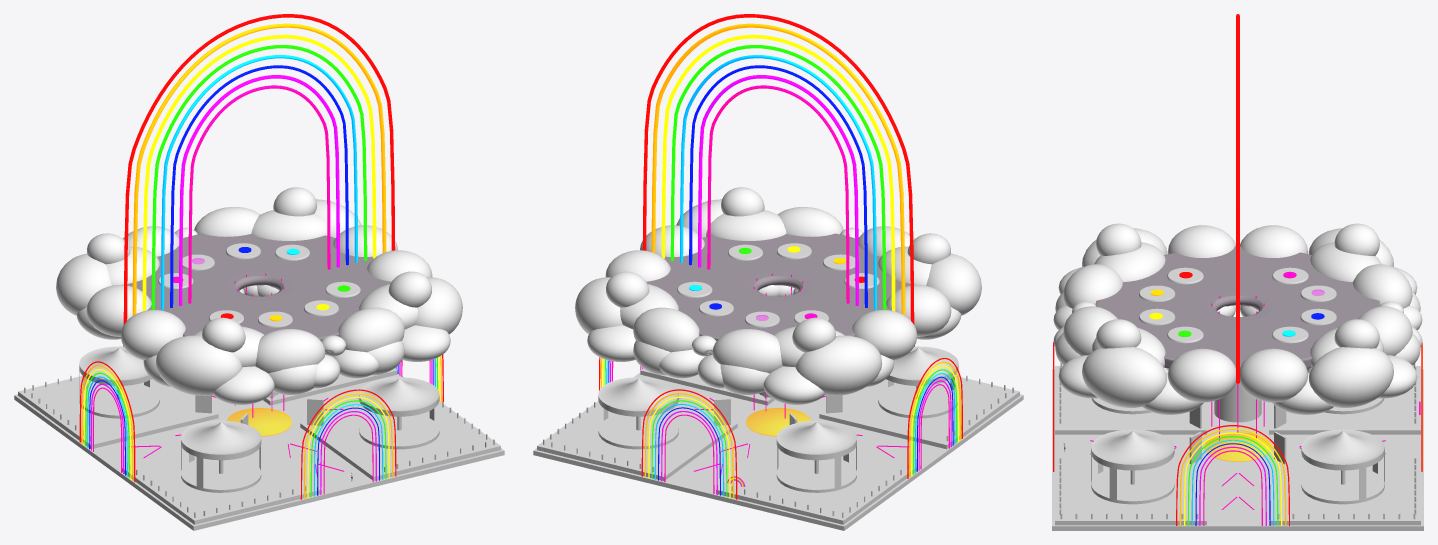
Rendered from rainbow-2.glb.
3 views of the same model, side by side, from view 1: azimuth 30°, elevation 25°; view 2: azimuth 150°, elevation 25°; view 3: azimuth 270°, elevation 25° (orthographic). The views are drawn at different scales.
Visible parts, largest first — view 1: Sphere.013, Plane.007, Cylinder, Circle.009, Cylinder.001, BezierCircle.004, BezierCircle.002, BezierCircle.005, BezierCircle.006, BezierCircle.003, BezierCircle.008, BezierCircle.007 (+3 smaller); view 2: Sphere.013, Plane.007, Cylinder, Circle.009, Cylinder.001, BezierCircle.004, BezierCircle.002, BezierCircle.005, BezierCircle.006, BezierCircle.003, BezierCircle.008, BezierCircle.007 (+3 smaller); view 3: Sphere.013, Plane.007, Cylinder, Circle.009, Cylinder.001, BezierCircle.002, Circle.001, Circle.045, Cube.084, Circle.041, Cylinder.002, BezierCircle.038 (+2 smaller).
Boxes of the visible parts, box(x1,y1,x2,y2) form: Sphere.013: box(56, 187, 462, 404); Plane.007: box(14, 368, 504, 530); Cylinder: box(123, 233, 391, 340); Circle.009: box(79, 346, 439, 492); Cylinder.001: box(158, 243, 360, 327); BezierCircle.004: box(132, 23, 386, 315); BezierCircle.002: box(123, 14, 395, 324); BezierCircle.005: box(142, 34, 376, 311); BezierCircle.006: box(151, 45, 367, 309); BezierCircle.003: box(161, 55, 357, 310); BezierCircle.008: box(179, 75, 339, 305); BezierCircle.007: box(170, 65, 348, 307); Sphere.013: box(575, 187, 981, 404); Plane.007: box(533, 368, 1023, 530); Cylinder: box(646, 233, 914, 340); Circle.009: box(598, 346, 958, 492); Cylinder.001: box(677, 243, 879, 327); BezierCircle.004: box(651, 23, 905, 315); BezierCircle.002: box(642, 14, 914, 324); BezierCircle.005: box(661, 34, 895, 311); BezierCircle.006: box(670, 45, 886, 309); BezierCircle.003: box(680, 55, 876, 310); BezierCircle.008: box(698, 75, 858, 305); BezierCircle.007: box(689, 65, 867, 307); Sphere.013: box(1053, 223, 1422, 414); Plane.007: box(1052, 366, 1423, 530); Cylinder: box(1095, 246, 1380, 368); Circle.009: box(1091, 368, 1384, 504); Cylinder.001: box(1139, 267, 1336, 343); BezierCircle.002: box(1236, 14, 1239, 383); Circle.001: box(1204, 432, 1271, 461); Circle.045: box(1214, 383, 1261, 422); Cube.084: box(1189, 405, 1286, 464); Circle.041: box(1149, 271, 1324, 336); Cylinder.002: box(1059, 367, 1416, 514); BezierCircle.038: box(1179, 428, 1286, 525).
Bounding box in the file's own units: 64 × 80.53 × 64.
25 materials, 1 textured.
